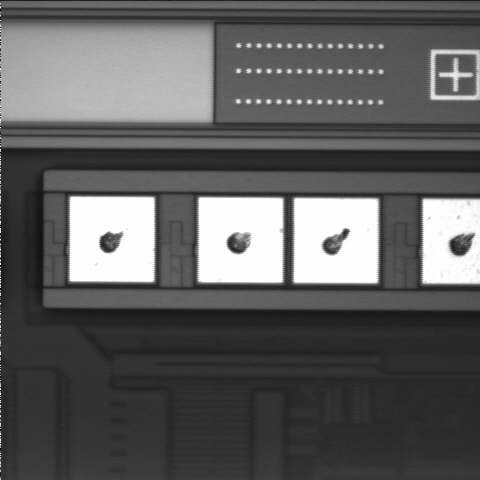pad: (70, 197, 154, 282), (199, 198, 283, 283), (294, 198, 378, 283)
